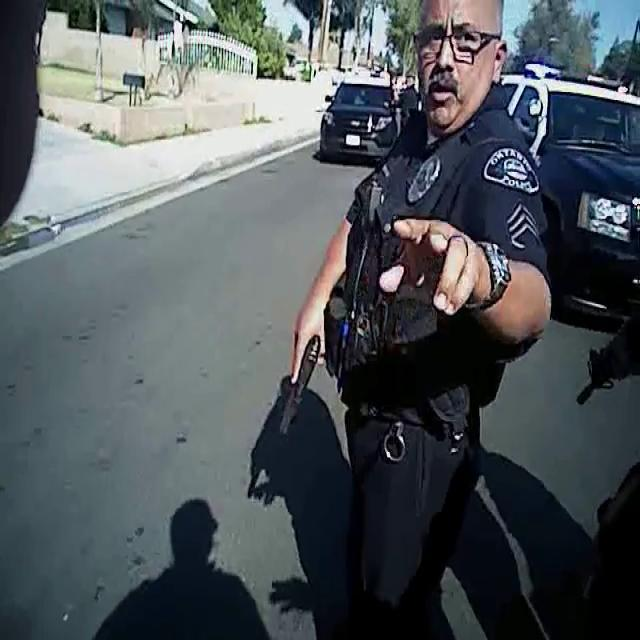gun: (268, 324, 341, 460)
